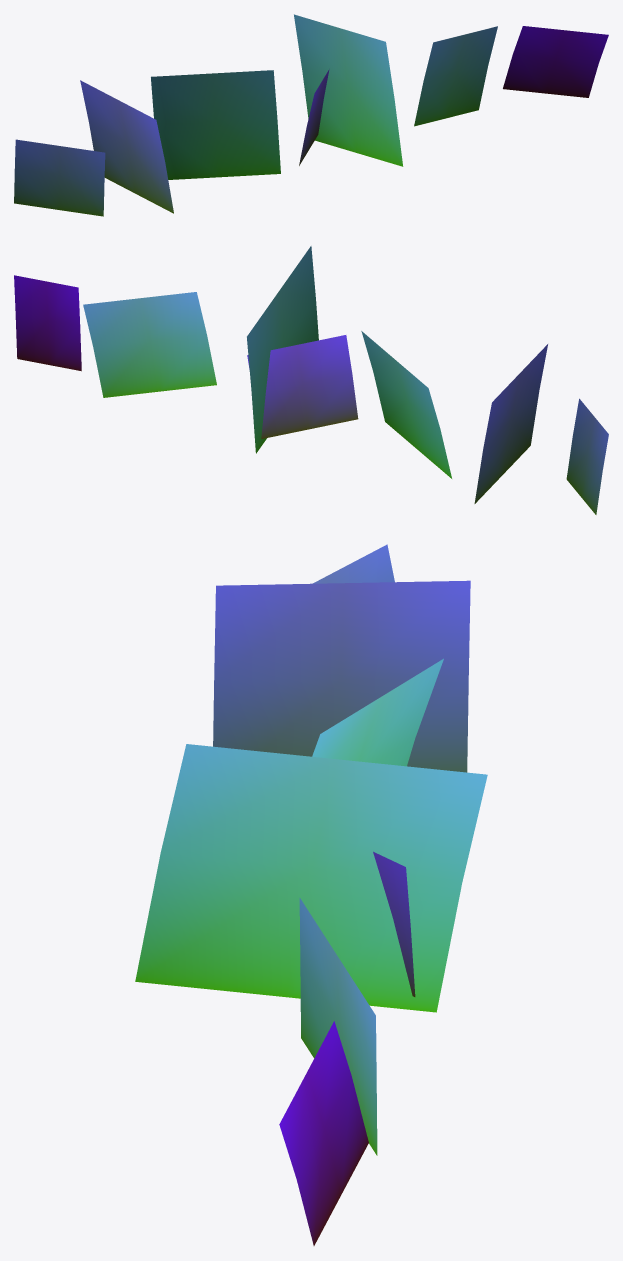
File: weeds_crack_a.glb
3 views of the same model, one above another, from view 1: azimuth 30°, elevation 25°; view 2: azimuth 150°, elevation 25°; view 3: azimuth 270°, elevation 25° (orthographic). The views are drawn at different scales.
Visible parts, largest first — view 1: small_weeds_crack_a; view 2: small_weeds_crack_a; view 3: small_weeds_crack_a.
Part boxes in pixels (<box>): small_weeds_crack_a: <box>14,14,608,216</box>; small_weeds_crack_a: <box>14,246,608,514</box>; small_weeds_crack_a: <box>135,544,487,1245</box>.
Bounding box in the file's own units: 1.01 × 0.2392 × 0.2723.
